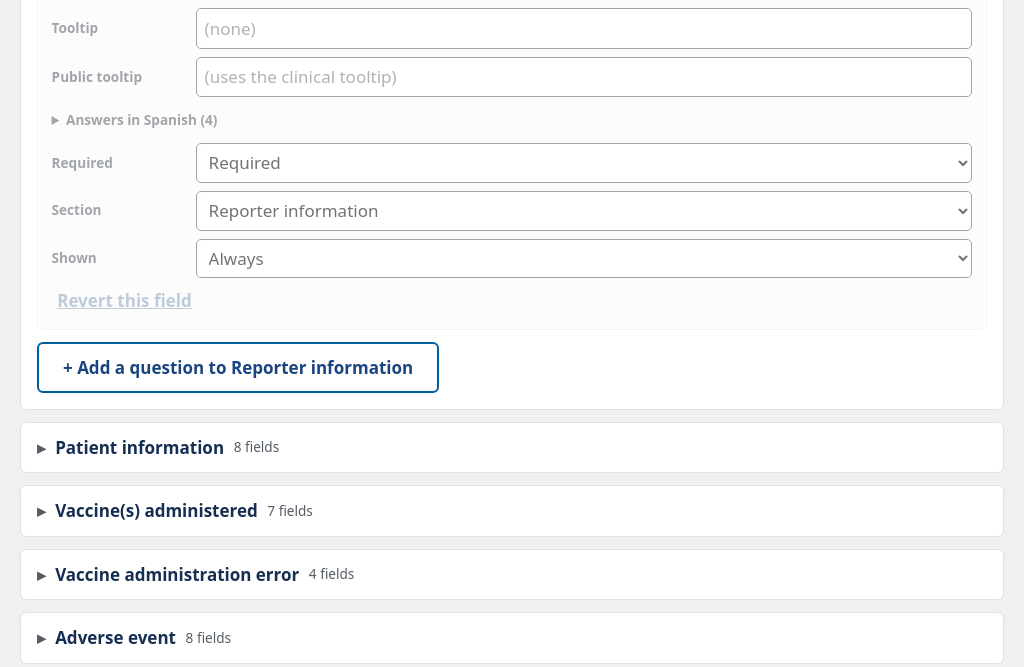
Test: adding a question through the admin surface › creates a short-answer question that appears in the live preview at once
(page scrolled)
Click the button "+ Add a question to Reporter information" at (238, 368), box [37, 342, 439, 393]
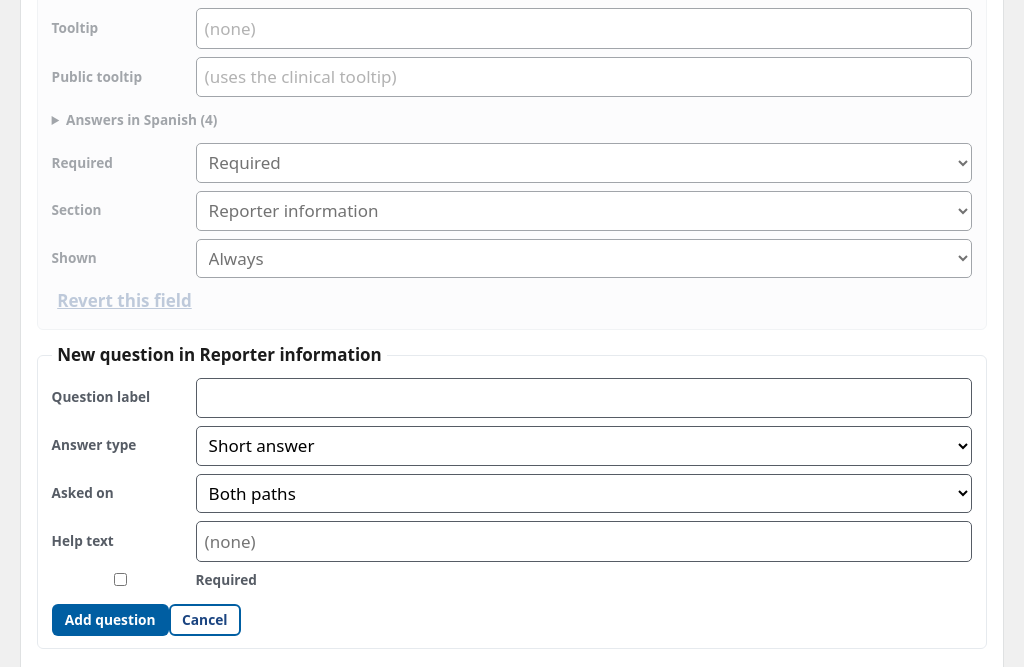
Type "Best callback time" into the field named "label for the new question in reporter" at (584, 398), box [196, 378, 972, 418]
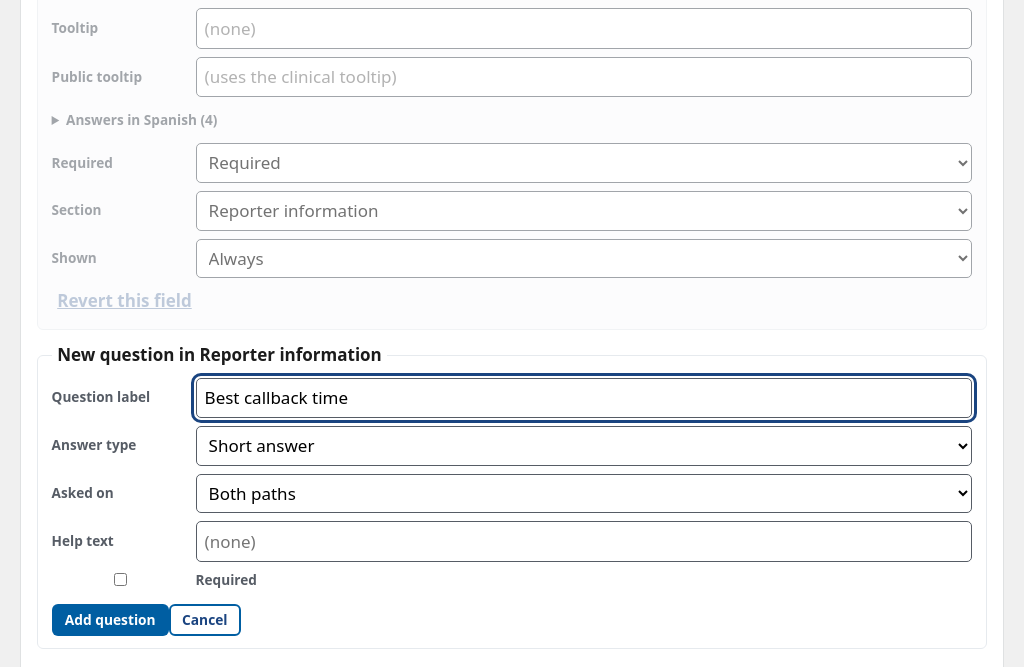
Click the button "Add question" at (110, 620), box [52, 604, 169, 636]
(page scrolled)
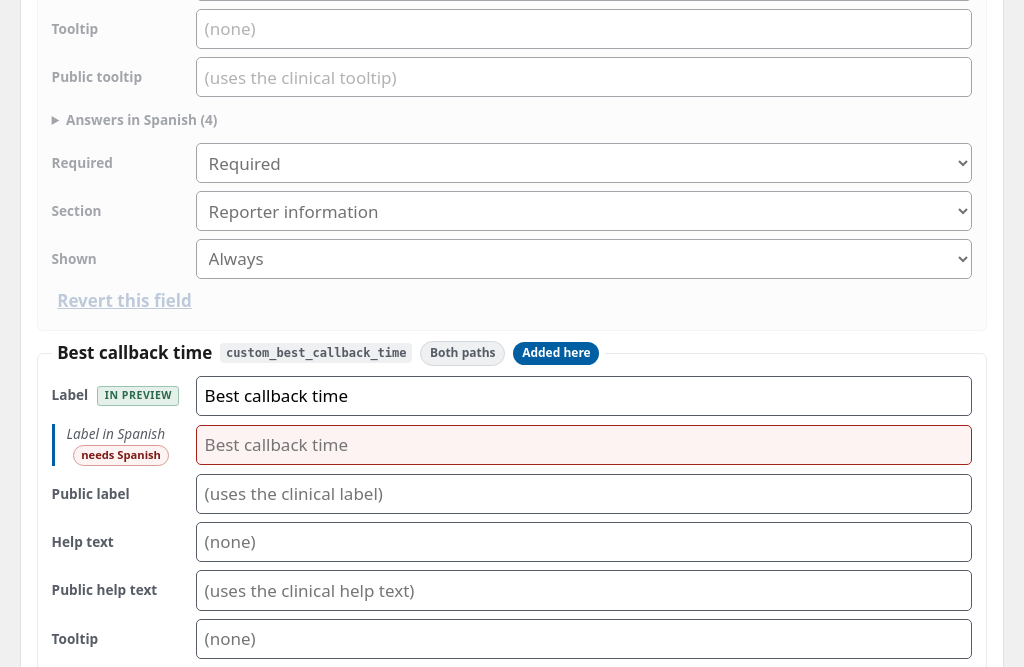
Expected: the text "Added here" is shown, [513, 342, 600, 365]
